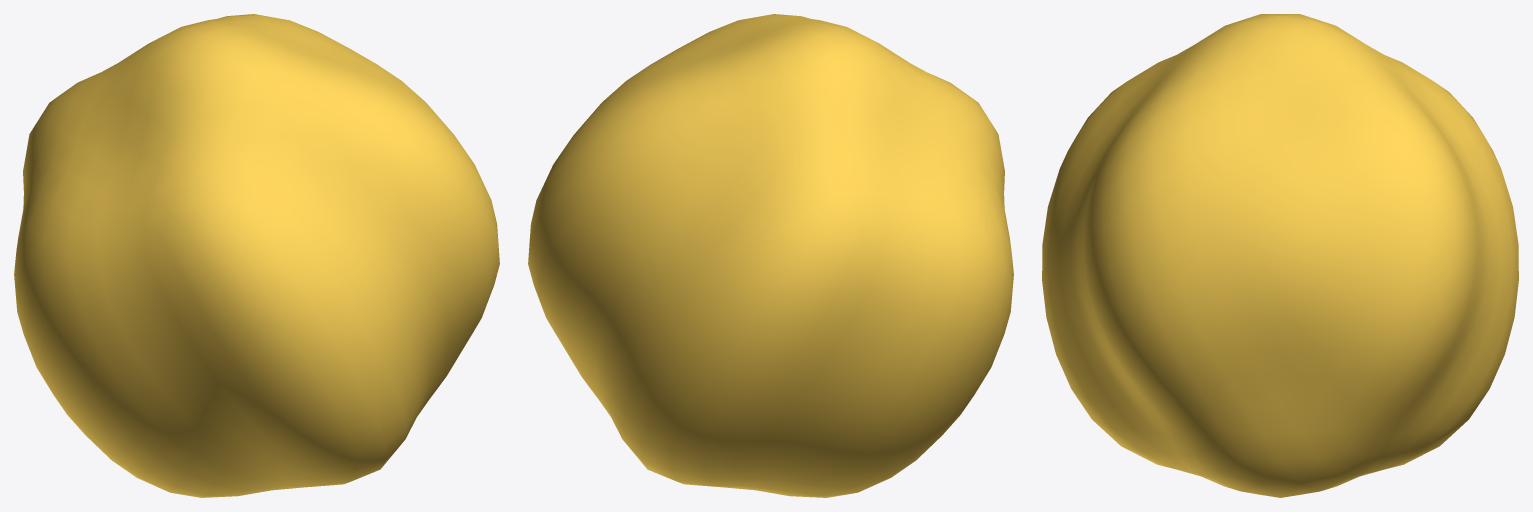
File: solar.glb
3 renders of one model, left to right at view 1: azimuth 30°, elevation 25°; view 2: azimuth 150°, elevation 25°; view 3: azimuth 270°, elevation 25°, orthographic. The views are drawn at different scales.
Visible parts, largest first — view 1: solar_core; view 2: solar_core; view 3: solar_core.
Boxes of the visible parts, box(x1,y1,x2,y2) form: solar_core: box(14, 14, 499, 497); solar_core: box(528, 14, 1013, 497); solar_core: box(1042, 14, 1518, 497).
Size of the model in its own units: 2.5 by 2.61 by 2.57.
